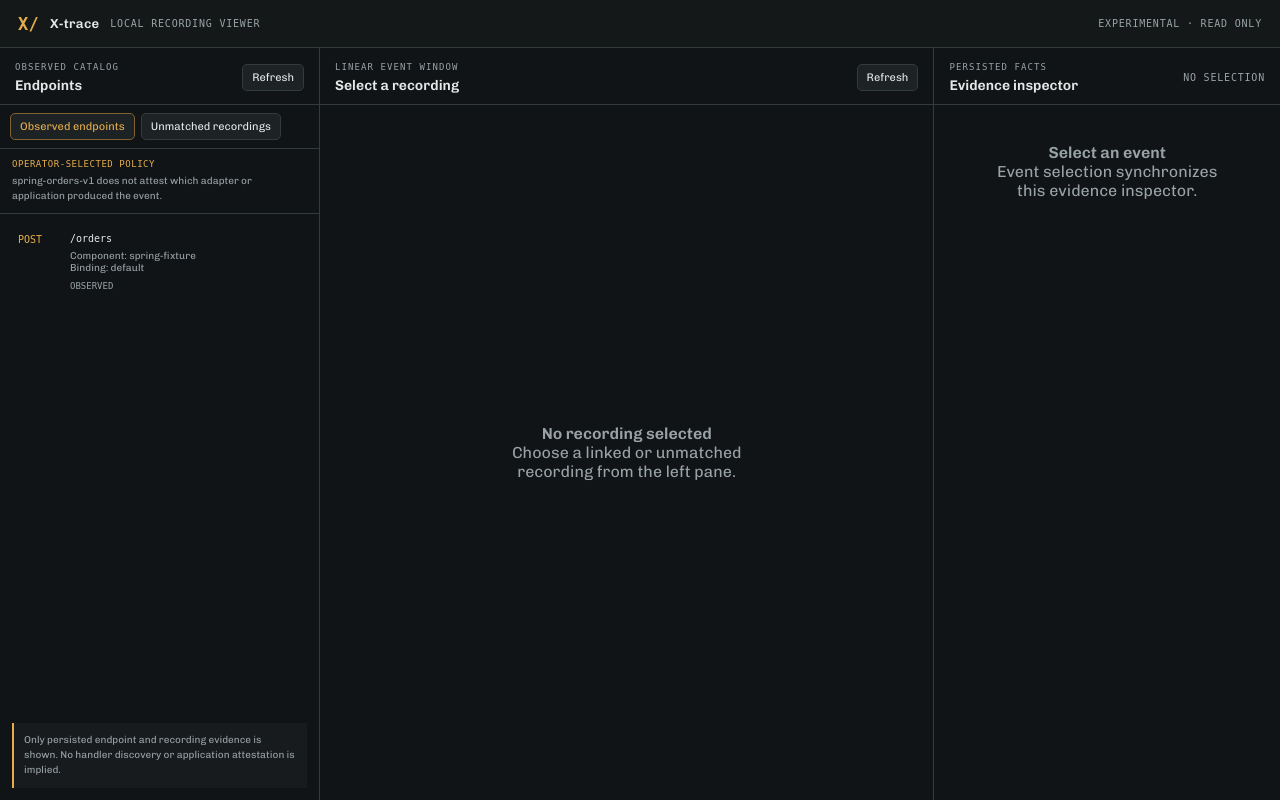
Test: endpoint-first recording viewer › keeps the newer recording detail when an older selection resolves late
The image size is (1280, 800).
Click the button named "POST /orders Component: spring-fixture Binding: default observed" at (160, 262), box top-left (8, 221), bottom-right (311, 303)
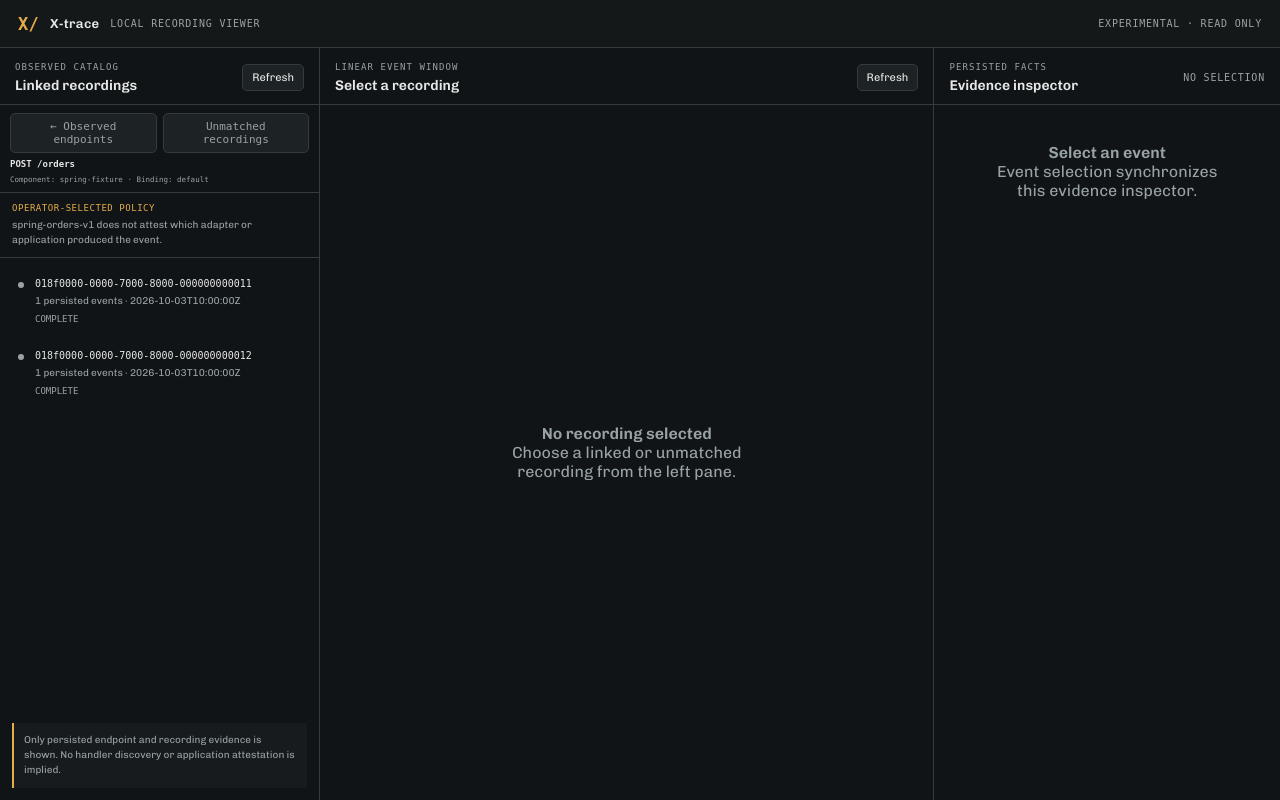
Click the button "018f0000-0000-7000-8000-000000000011" at (160, 301), box top-left (8, 266), bottom-right (311, 336)
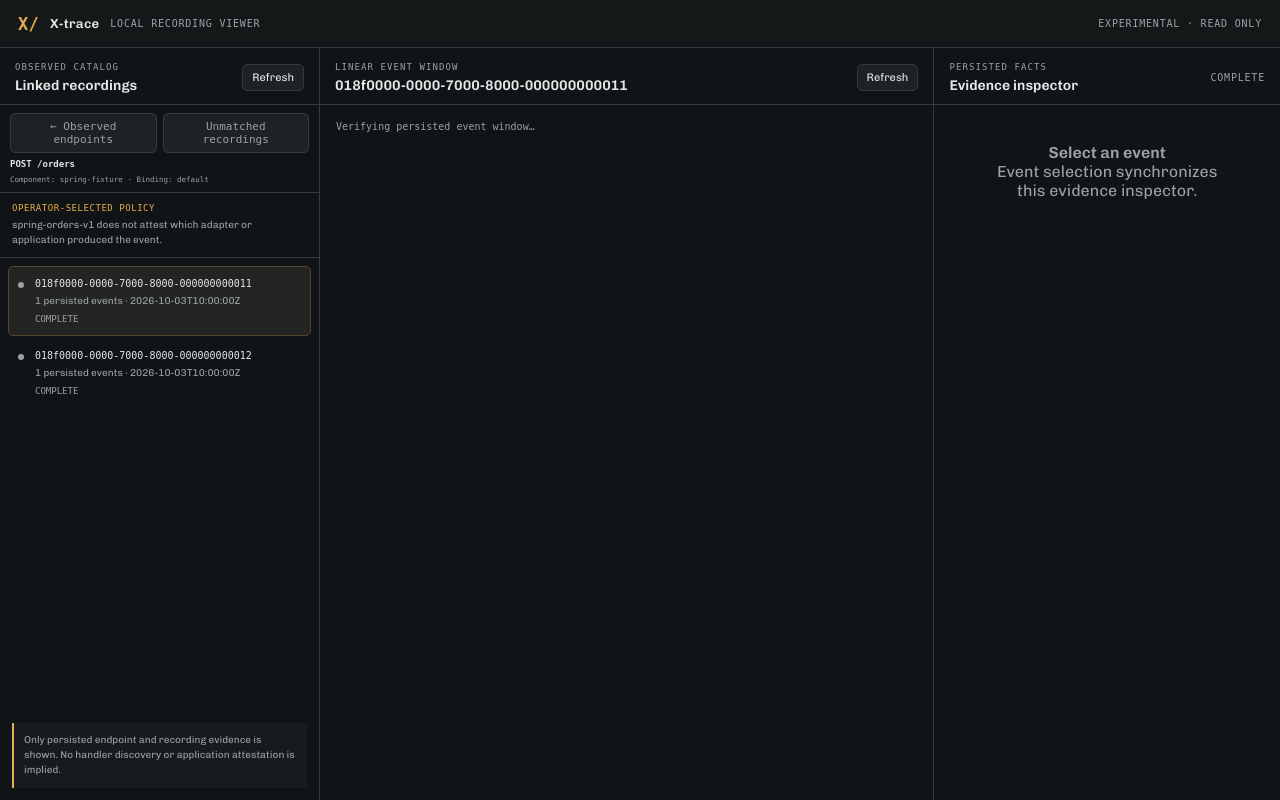
Click the button "018f0000-0000-7000-8000-000000000012" at (160, 373), box top-left (8, 338), bottom-right (311, 408)
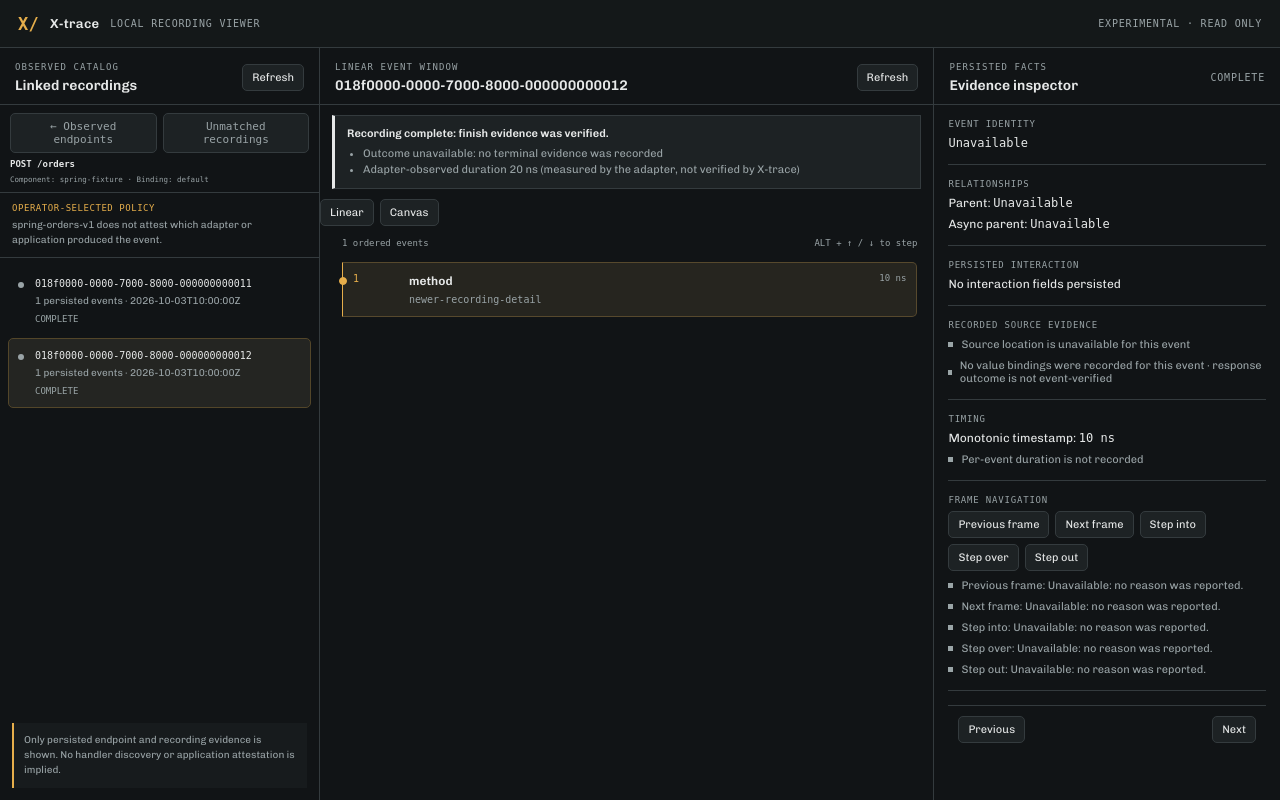
Check: the text "newer-recording-detail" is shown, box top-left (409, 294), bottom-right (542, 305)
Check: the heading "018f0000-0000-7000-8000-000000000012" is shown, box top-left (335, 76), bottom-right (628, 94)
